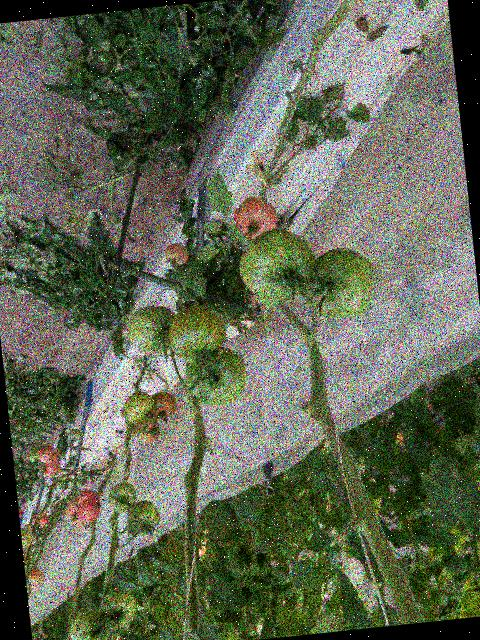b_fully_ripened: (73, 488, 103, 524), (32, 512, 50, 527)
b_green: (236, 225, 319, 307), (301, 244, 382, 322), (183, 345, 251, 409), (165, 302, 230, 360), (124, 303, 180, 357), (100, 585, 139, 630), (126, 498, 163, 537), (68, 607, 109, 640), (121, 389, 156, 425), (107, 481, 139, 515), (28, 447, 44, 467), (21, 527, 35, 549), (68, 428, 84, 442)
b_half_ripened: (232, 194, 280, 243), (131, 415, 162, 445), (148, 390, 178, 419), (64, 497, 90, 528), (164, 242, 190, 267), (36, 444, 60, 466), (39, 459, 62, 479), (27, 568, 46, 589)
